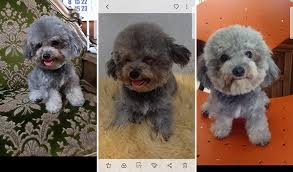Poodle: (202, 25, 290, 153), (104, 23, 195, 144), (22, 15, 88, 112)
